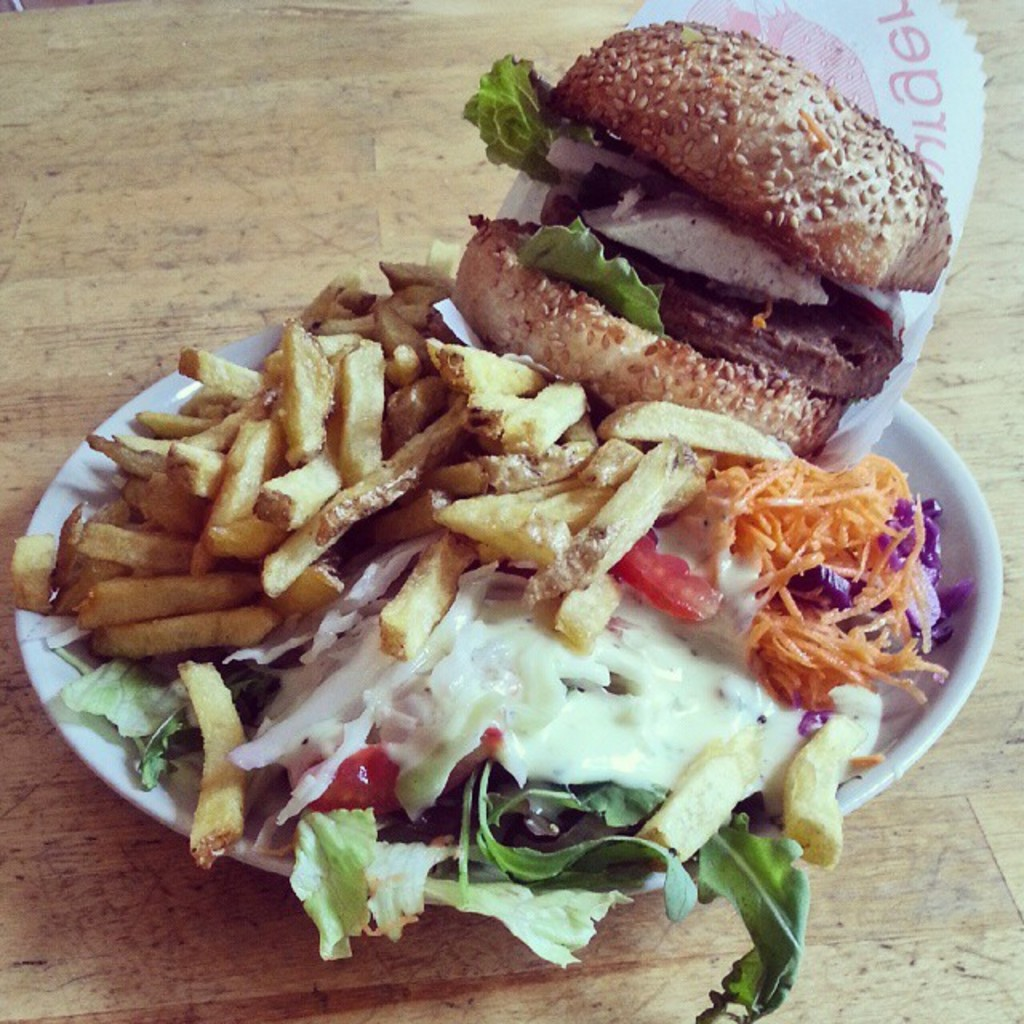French fries: (3, 240, 782, 886), (753, 670, 881, 907)
